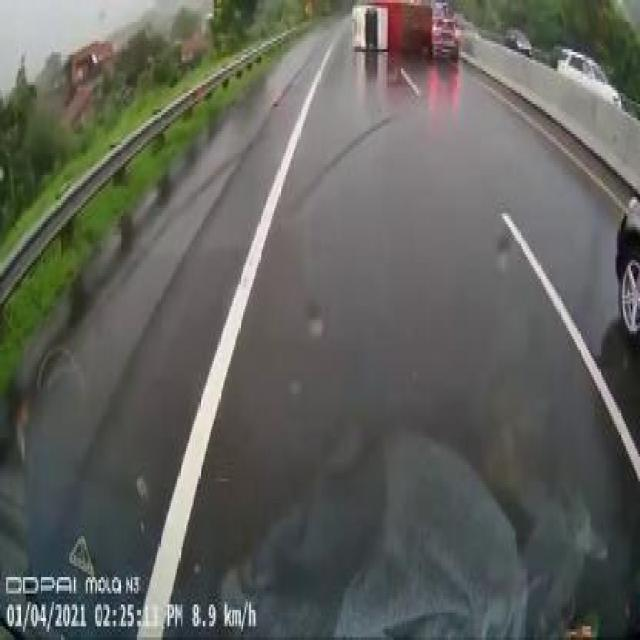accident: (336, 0, 462, 66)
